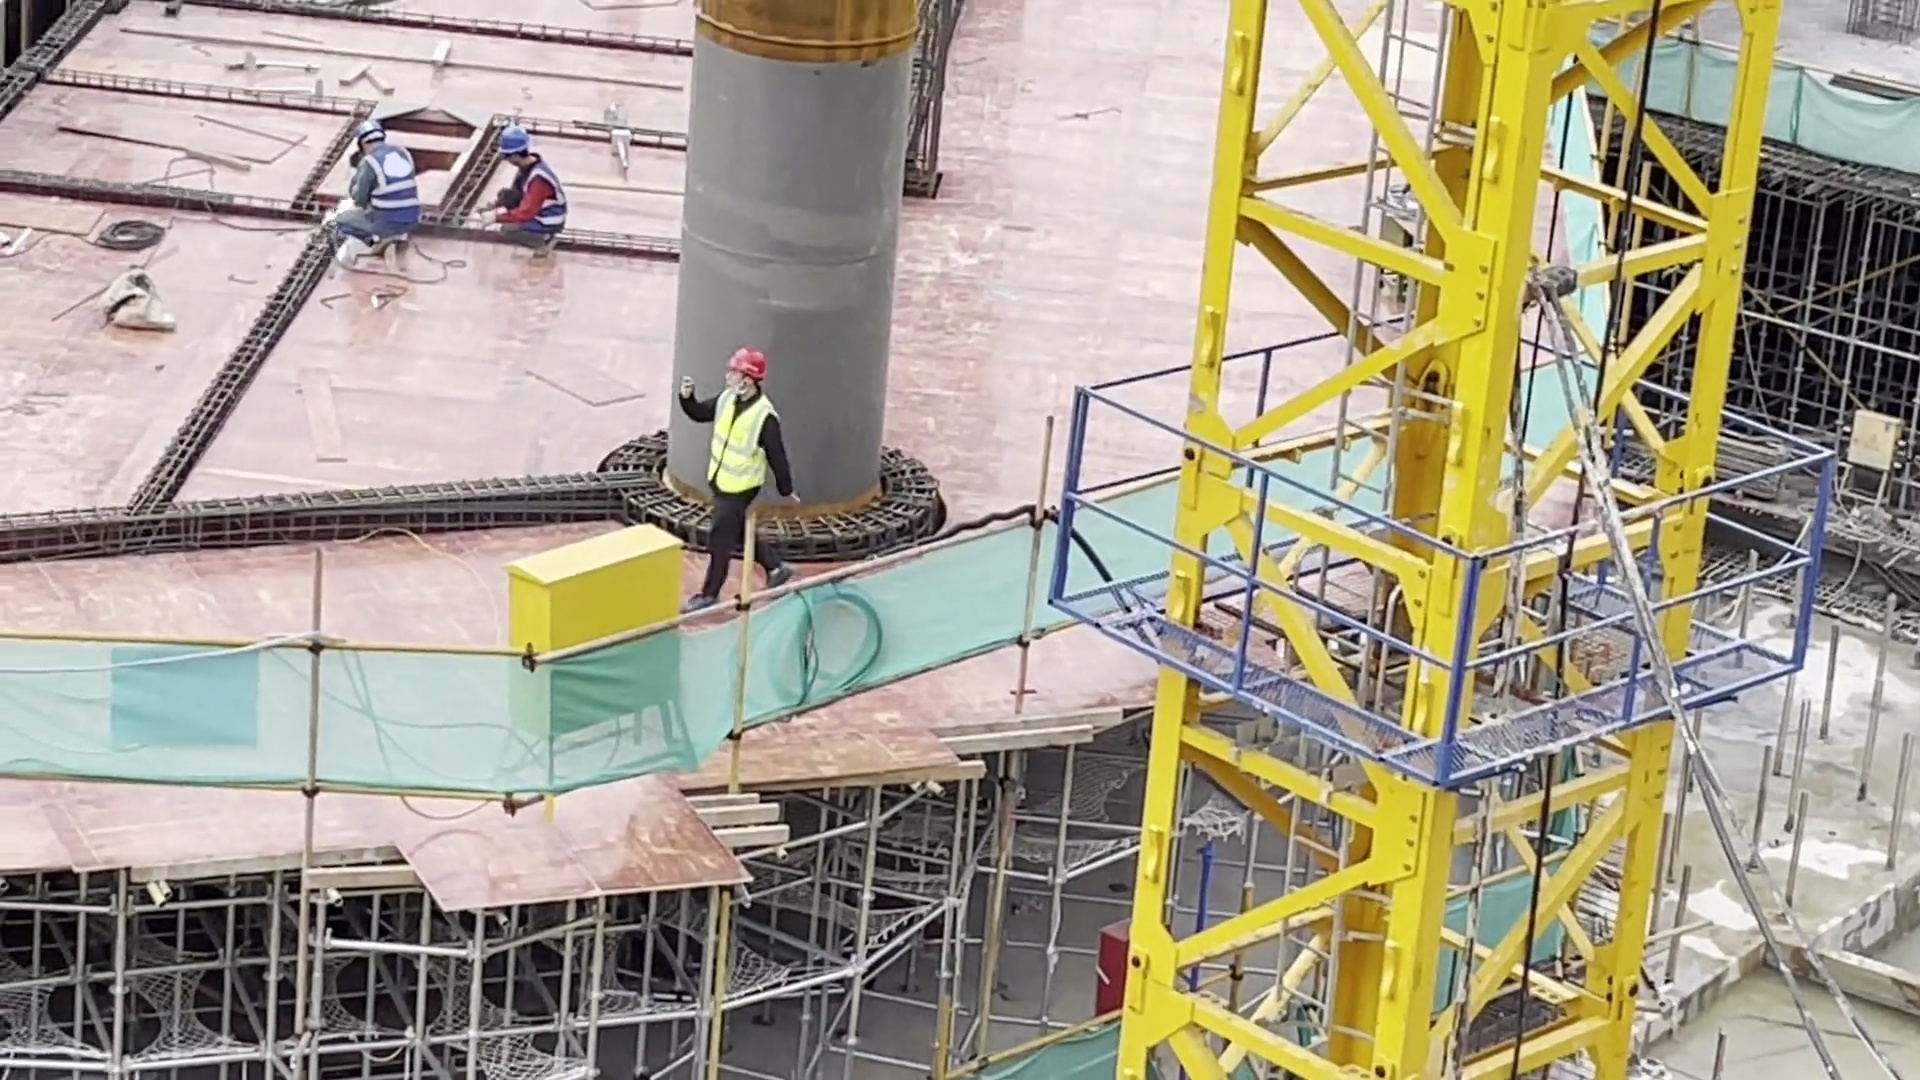ebox: (497, 519, 684, 819)
helmet: (724, 343, 767, 382), (495, 124, 530, 154), (356, 119, 385, 146)
person: (677, 339, 806, 601), (326, 114, 426, 266), (488, 119, 569, 263)
vest: (704, 388, 775, 505), (359, 148, 426, 229), (507, 161, 568, 232)
